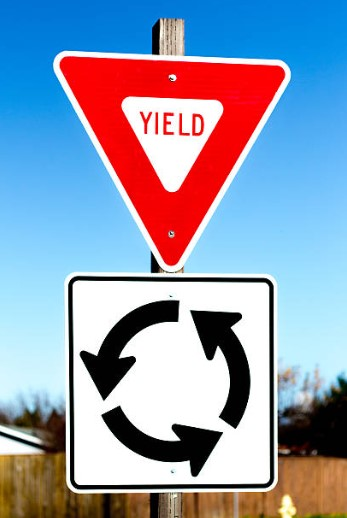Yeild: (51, 49, 293, 274)
